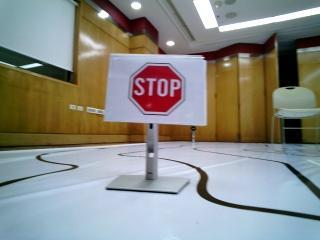stop: (104, 56, 204, 121)
